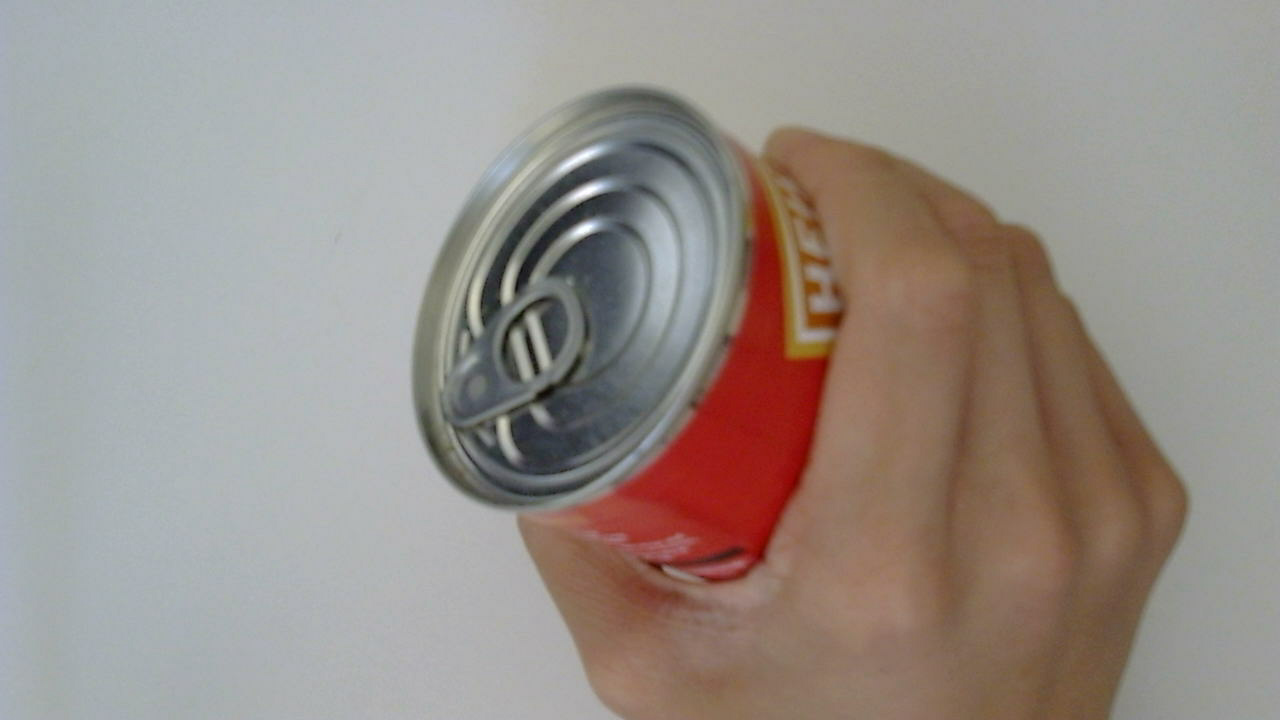Metal Tin: (413, 86, 851, 596)
